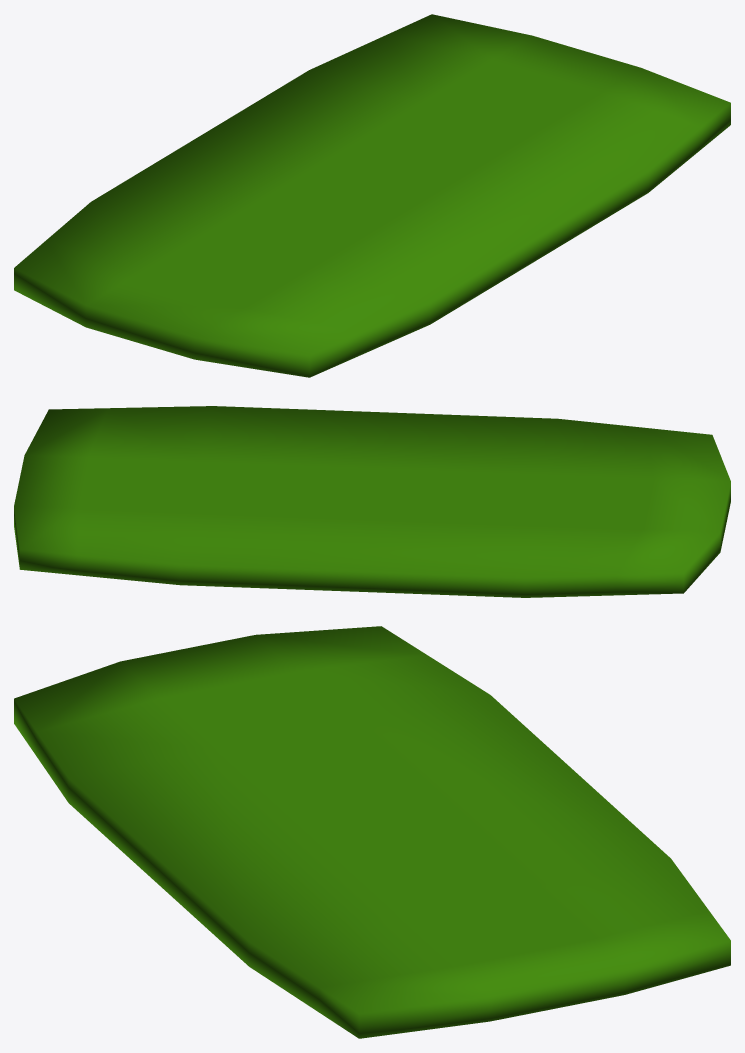
File: plate.fbx
3 views of the same model, one above another, from view 1: azimuth 30°, elevation 25°; view 2: azimuth 150°, elevation 25°; view 3: azimuth 270°, elevation 25° (orthographic). The views are drawn at different scales.
Parts seen in each view (by area): view 1: plate; view 2: plate; view 3: plate.
Part boxes in pixels (x1,y1,x2,y2): plate: [14, 14, 730, 377]; plate: [14, 406, 730, 597]; plate: [14, 626, 730, 1038].
Bounding box in the file's own units: 39.27 × 1.18 × 30.7.
